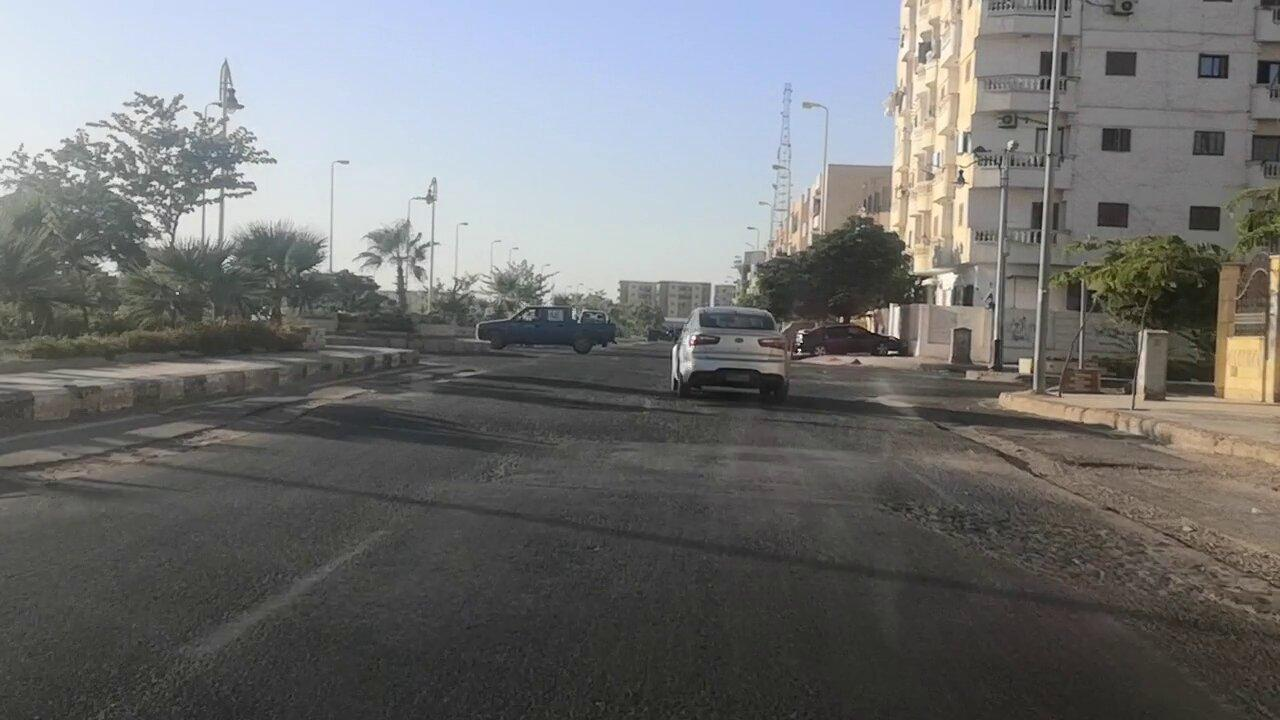Bump: (310, 405, 972, 455)
